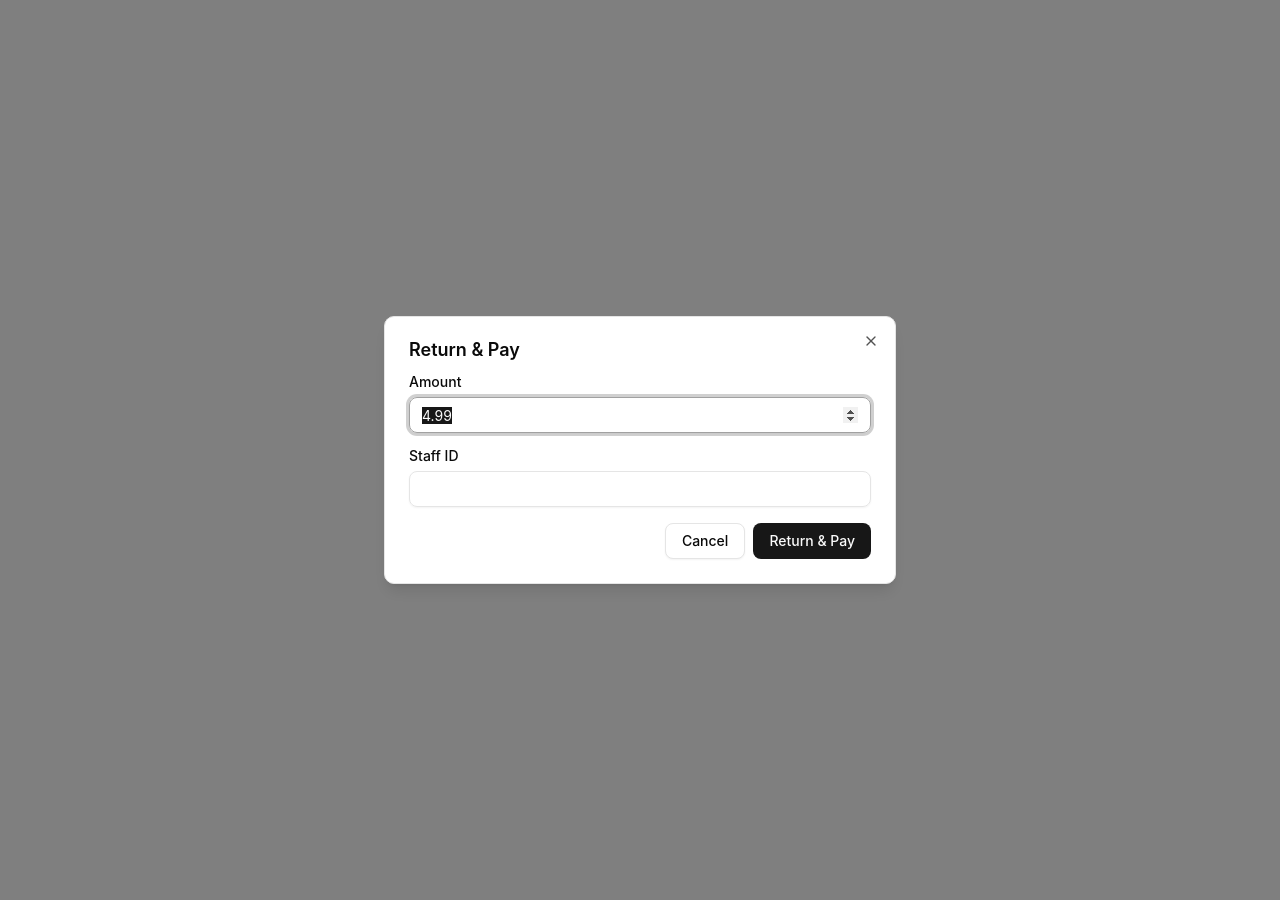
Test case: ReturnPayModal › shows validation error for missing staffId
Step 1. Click the button "Return & Pay" → (812,541), box [753,523,871,559]
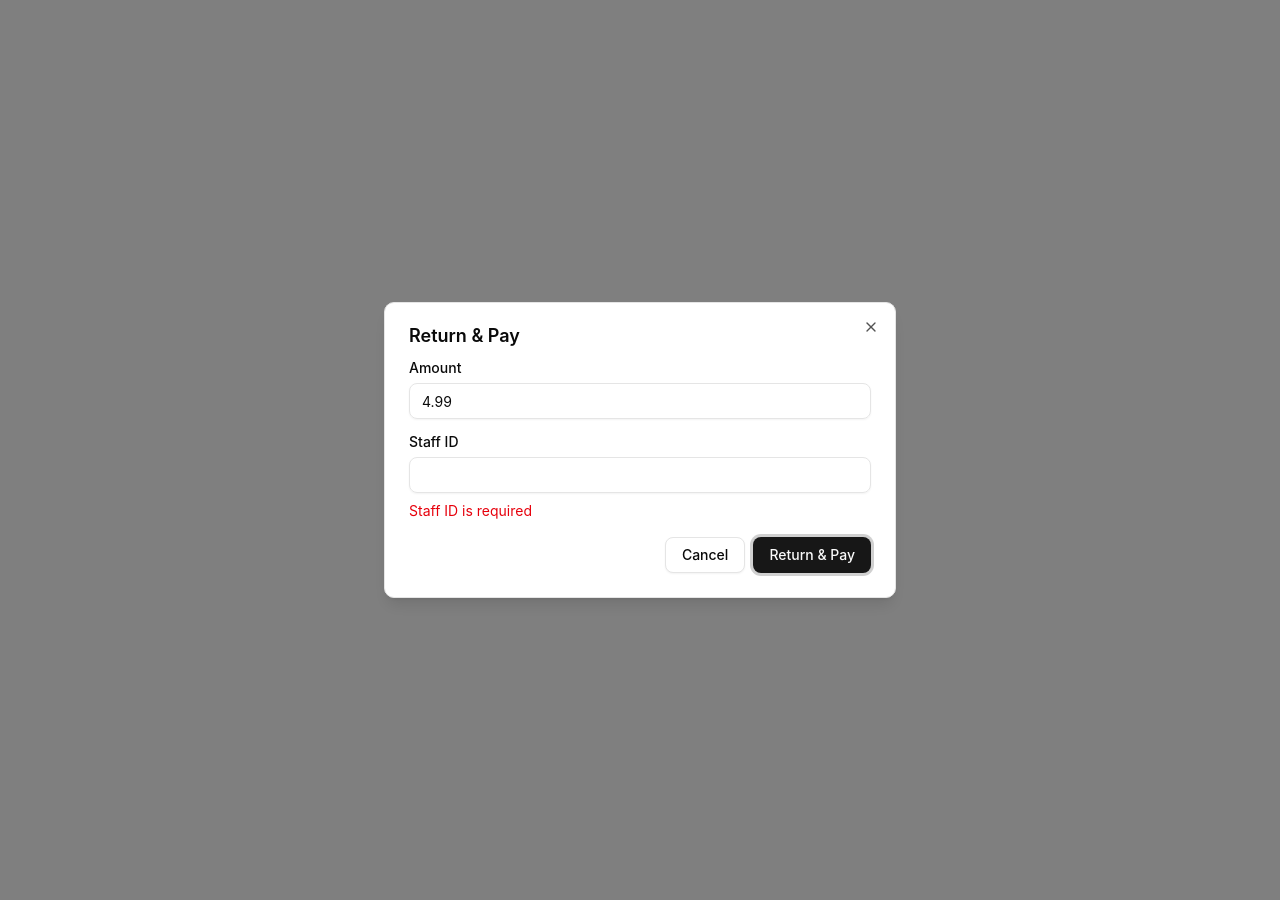
expect the text "Staff ID is required" is shown: met, box [409,502,532,519]
